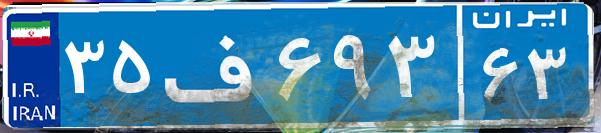3: (385, 28, 445, 110), (57, 26, 110, 107), (525, 38, 570, 115)
5: (110, 28, 158, 105)
6: (273, 28, 330, 110), (475, 38, 525, 113)
9: (330, 28, 385, 110)
ف: (158, 15, 273, 115)
